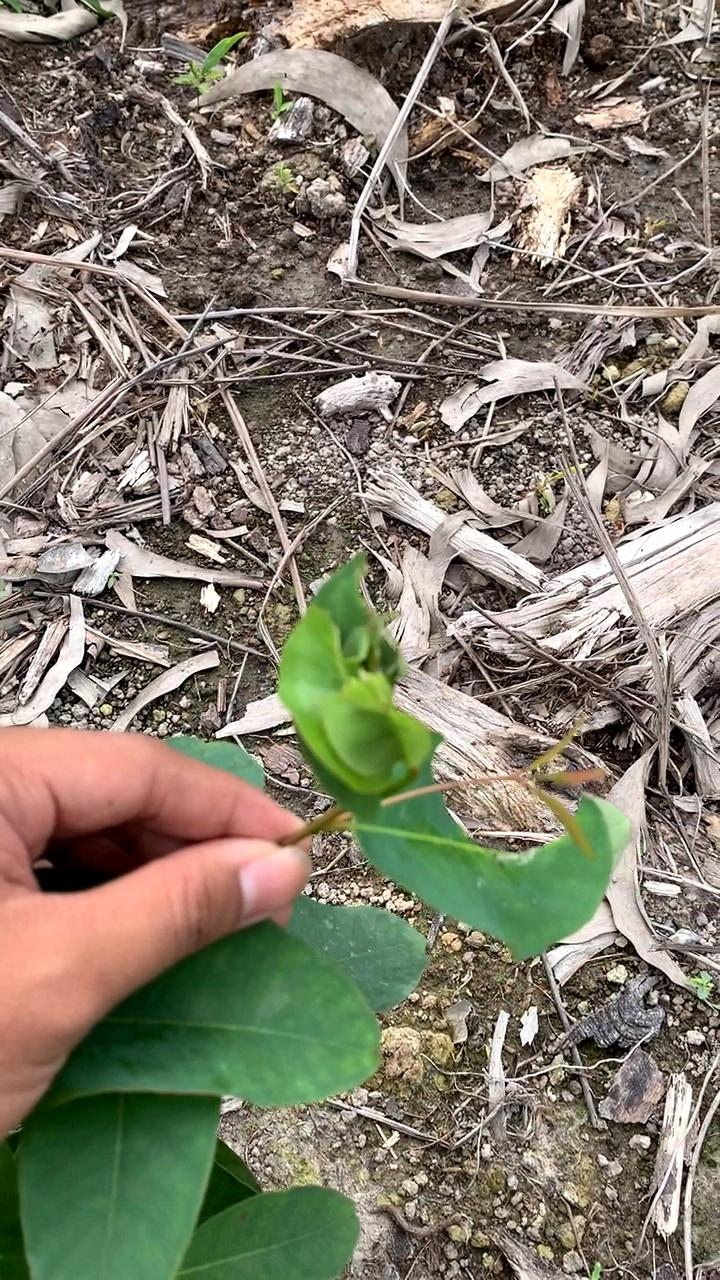Leaf Roller - Leaf: (271, 610, 457, 807)
